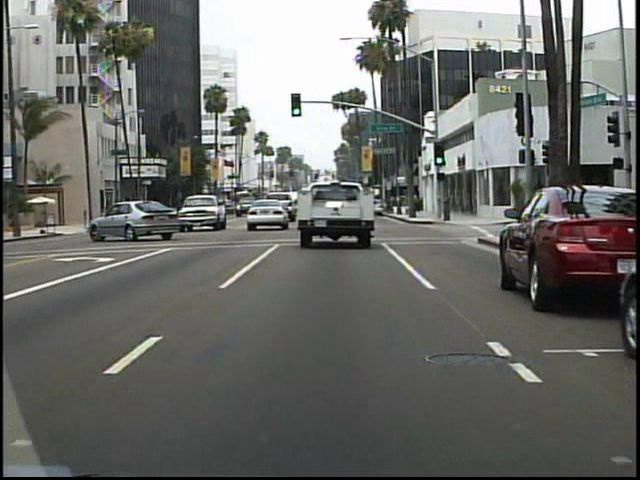person: (441, 185, 456, 223)
